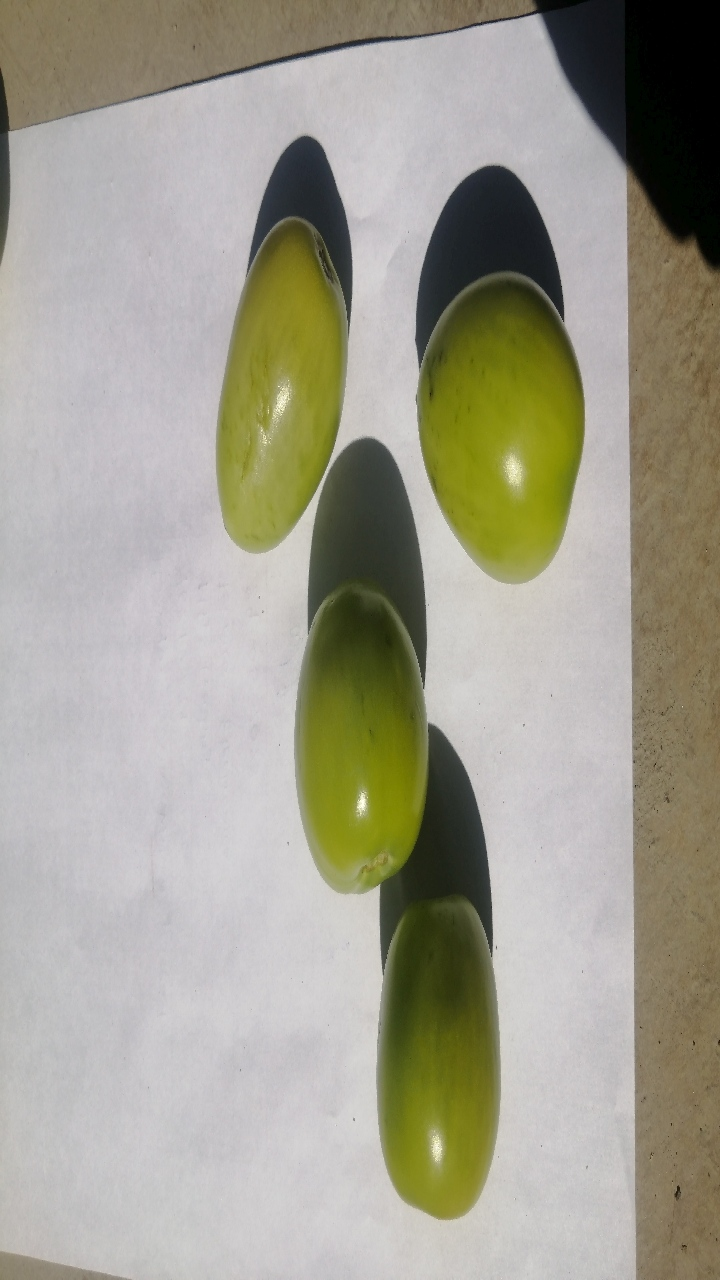tomateVerde: (237, 566, 478, 897), (311, 882, 535, 1235), (386, 246, 592, 599), (181, 163, 355, 579)
